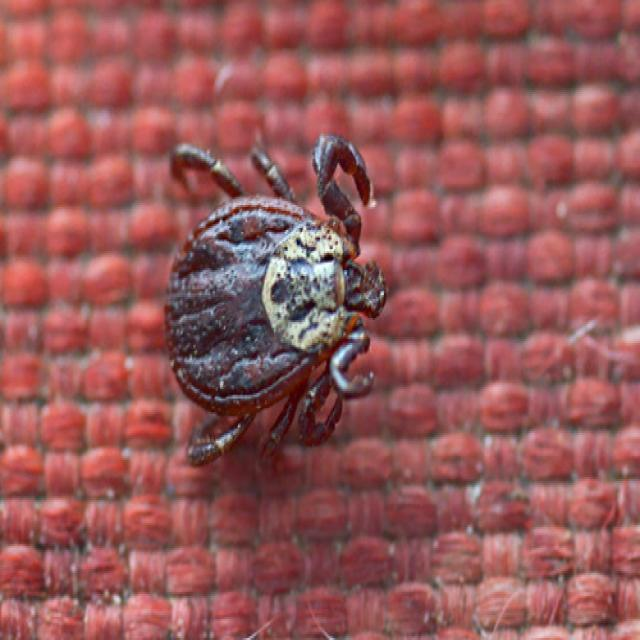Dermacentor Reticulatus-F: (165, 134, 387, 466)
